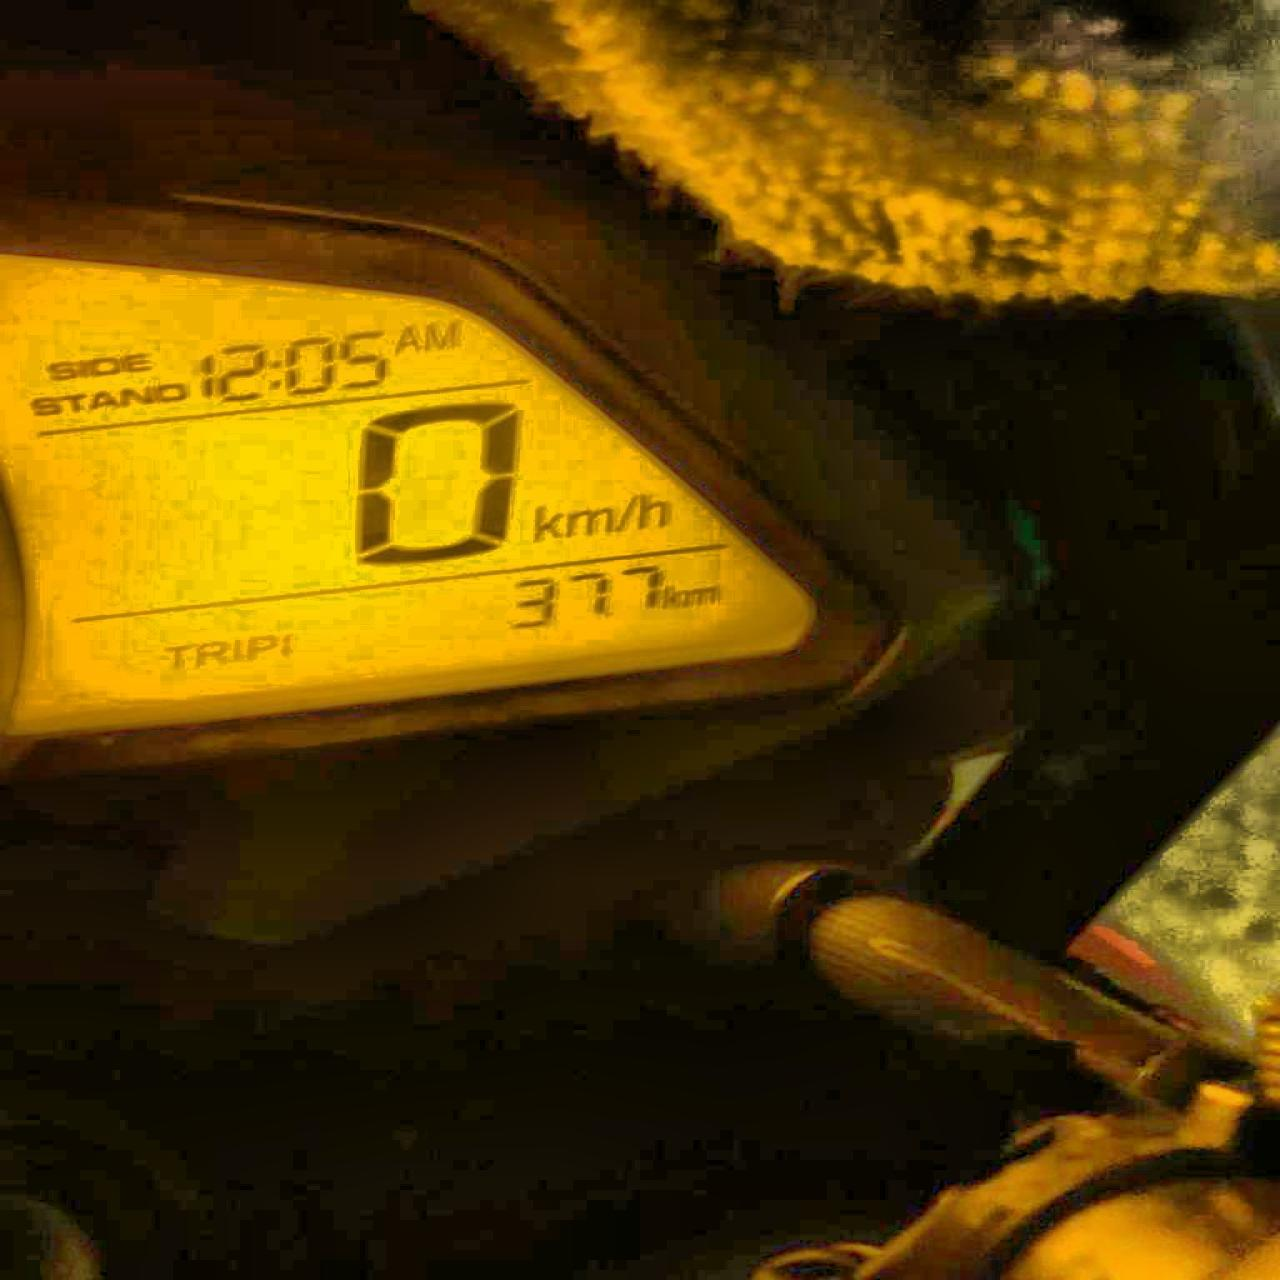0: (348, 399, 520, 566), (284, 336, 334, 395)
1: (198, 348, 215, 402), (280, 630, 295, 659)
2: (218, 342, 262, 403)
3: (514, 576, 558, 629)
5: (340, 328, 390, 390)
7: (566, 566, 616, 625), (620, 560, 662, 615)
X: (563, 505, 612, 539), (636, 489, 666, 531), (530, 502, 558, 542), (246, 631, 276, 665), (423, 321, 455, 350), (612, 495, 635, 534), (193, 640, 227, 665), (393, 324, 420, 354), (118, 385, 152, 406), (155, 382, 187, 402), (685, 585, 717, 605), (88, 356, 118, 376), (122, 352, 152, 372), (163, 642, 187, 666), (47, 359, 73, 380), (86, 391, 116, 409), (32, 396, 60, 415), (660, 584, 682, 608), (60, 393, 83, 412), (268, 355, 280, 390), (230, 635, 242, 663), (77, 358, 88, 380)
odometer: (3, 246, 825, 750)
